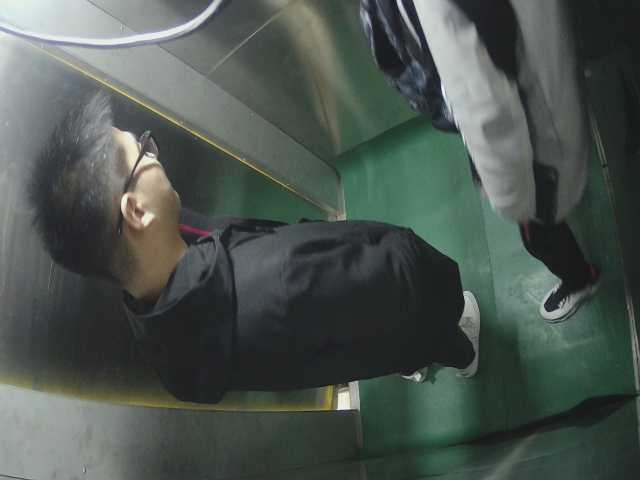bag: (340, 1, 463, 143)
person: (29, 90, 498, 385)
